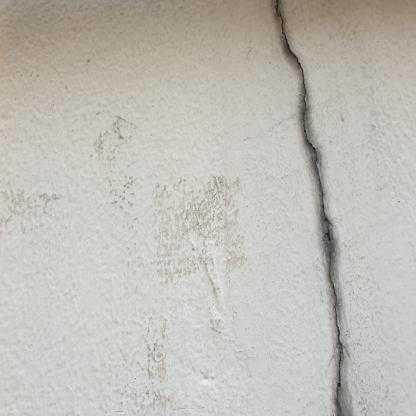crack: (274, 0, 345, 412)
